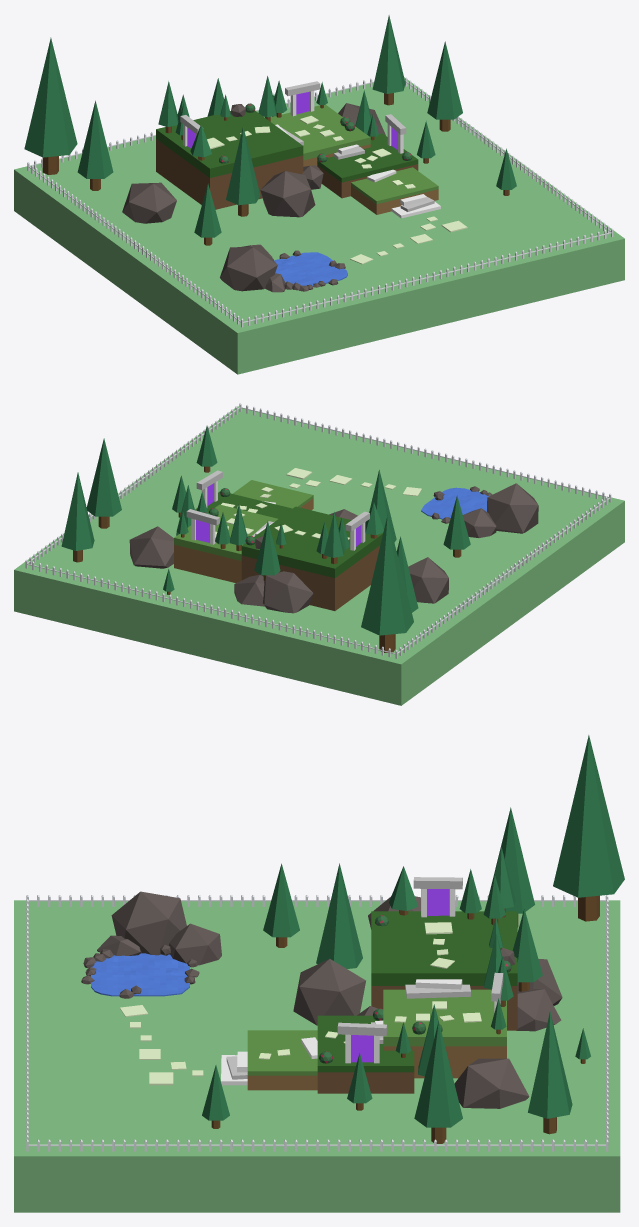
The model's file is environment.glb.
3 renders of one model, top to bottom at view 1: azimuth 30°, elevation 25°; view 2: azimuth 150°, elevation 25°; view 3: azimuth 270°, elevation 25°, orthographic. The views are drawn at different scales.
Visible parts, largest first — view 1: floor, terrain, trees.017, terrain.001, terrain.002, terrain.003, boulders.008, boulders.002, boulders.001, pond, trees.019, trees.008 (+5 smaller); view 2: floor, terrain, trees.017, terrain.001, boulders.008, trees.019, boulders.006, trees.012, boulders.004, boulders.001, terrain.003, pond (+10 smaller); view 3: floor, terrain, trees.017, terrain.001, terrain.002, terrain.003, pond, boulders.002, boulders.008, trees.019, boulders.004, trees.012 (+12 smaller).
Boxes of the visible parts, bbox=[...] form: floor: bbox=[14, 77, 624, 374]; terrain: bbox=[156, 110, 303, 209]; trees.017: bbox=[24, 37, 77, 174]; terrain.001: bbox=[270, 104, 370, 166]; terrain.002: bbox=[317, 133, 418, 198]; terrain.003: bbox=[351, 167, 438, 214]; boulders.008: bbox=[220, 246, 277, 291]; boulders.002: bbox=[260, 171, 315, 217]; boulders.001: bbox=[122, 182, 176, 223]; pond: bbox=[274, 252, 347, 286]; trees.019: bbox=[427, 41, 462, 131]; trees.008: bbox=[77, 100, 113, 190]; floor: bbox=[14, 406, 624, 705]; terrain: bbox=[241, 506, 384, 610]; trees.017: bbox=[361, 515, 413, 652]; terrain.001: bbox=[174, 504, 277, 582]; boulders.008: bbox=[487, 483, 538, 533]; trees.019: bbox=[86, 438, 121, 528]; boulders.006: bbox=[263, 571, 313, 613]; trees.012: bbox=[61, 472, 94, 562]; boulders.004: bbox=[129, 526, 173, 568]; boulders.001: bbox=[408, 557, 448, 603]; terrain.003: bbox=[233, 480, 313, 510]; pond: bbox=[421, 487, 489, 519]; floor: bbox=[14, 900, 620, 1212]; terrain: bbox=[371, 911, 517, 1030]; trees.017: bbox=[553, 735, 624, 921]; terrain.001: bbox=[383, 989, 506, 1078]; terrain.002: bbox=[317, 1015, 414, 1093]; terrain.003: bbox=[247, 1030, 317, 1090]; pond: bbox=[91, 953, 189, 996]; boulders.002: bbox=[293, 958, 365, 1025]; boulders.008: bbox=[111, 891, 186, 955]; trees.019: bbox=[414, 1021, 462, 1143]; boulders.004: bbox=[454, 1058, 529, 1108]; trees.012: bbox=[528, 1011, 572, 1134].
Size of what is drawn, in the model's own units: 38.91 by 16.92 by 39.21.
